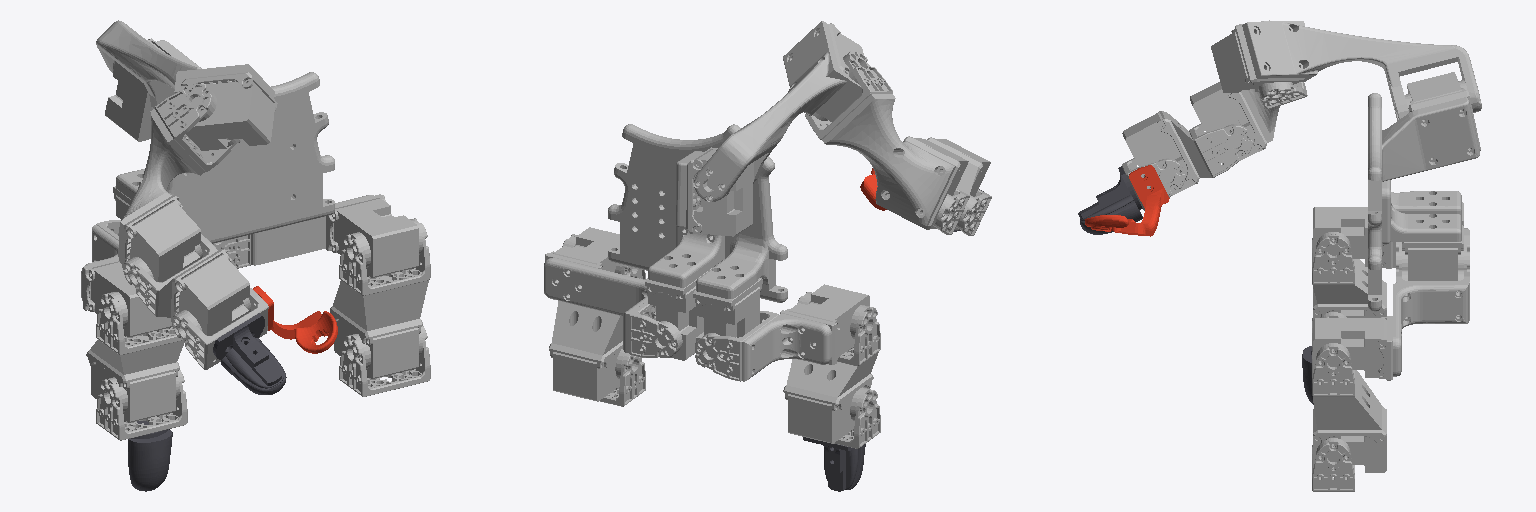
URDF robot description (ditto_leader_3f):
<?xml version='1.0' encoding='utf-8'?>
<robot name="ditto_leader_3f">
  <!-- Built by ditto_gello_development/scripts/build_ditto_leader_urdfs.py from the SolidWorks export ditto_leader_urdf_4dof_thumb (index, thumb and middle finger). Drop-in for roamlab/ditto reverse_teleop assets/urdf/ditto_leader_7dof: root hand_piece in the same frame, same joint names, zeros and directions (the export's thumb1 and thumb4 zeros corrected so each part's screw holes sit on its XC330 horn's at zero). Joint limits on index1-3 and thumb1-4: ditto 7dof_f02 follower limits. -->
  <link name="hand_piece">
    <inertial>
      <origin xyz="0.00306629158 0.05206754619 -0.02295305992" rpy="-1.570796327 0 3.141592654" />
      <mass value="0.0833211952650804" />
      <inertia ixx="3.31172694214417E-05" ixy="7.28985620728082E-07" ixz="4.10611672088654E-06" iyy="3.13694915845556E-05" iyz="-3.04082055921108E-06" izz="4.76920282565564E-05" />
    </inertial>
    <visual>
      <origin xyz="-0.01214814623 0.0636128 -0.06877882933" rpy="-1.570796327 0 3.141592654" />
      <geometry>
        <mesh filename="meshes/base_link.STL" />
      </geometry>
      <material name="body">
        <color rgba="0.75 0.75 0.75 1" />
      </material>
    </visual>
    <collision>
      <origin xyz="-0.01214814623 0.0636128 -0.06877882933" rpy="-1.570796327 0 3.141592654" />
      <geometry>
        <mesh filename="meshes/base_link.STL" />
      </geometry>
    </collision>
  </link>
  <link name="index_link_0">
    <inertial>
      <origin xyz="0.0271735387 3.03e-09 0.00350542388" rpy="0 0 0" />
      <mass value="0.0234290807402588" />
      <inertia ixx="3.11468553842293E-06" ixy="-1.63639517838512E-13" ixz="-2.1506879881659E-07" iyy="3.56962661403034E-06" iyz="-2.93292358226171E-13" izz="1.91839577955842E-06" />
    </inertial>
    <visual>
      <origin xyz="0 0 -0.0255003" rpy="0 0 0" />
      <geometry>
        <mesh filename="meshes/index_link_0.STL" />
      </geometry>
      <material name="body">
        <color rgba="0.75 0.75 0.75 1" />
      </material>
    </visual>
    <collision>
      <origin xyz="0 0 -0.0255003" rpy="0 0 0" />
      <geometry>
        <mesh filename="meshes/index_link_0.STL" />
      </geometry>
    </collision>
  </link>
  <joint name="index1" type="revolute">
    <origin xyz="-0.01214814622 0.0381125 -0.06877882934" rpy="-1.570796327 0 -3.141592653" />
    <parent link="hand_piece" />
    <child link="index_link_0" />
    <axis xyz="0 0 1" />
    <limit lower="-0.226893" upper="0.418879" effort="10" velocity="4.8" />
  </joint>
  <link name="index_link_1">
    <inertial>
      <origin xyz="0.03248672582 -0.00549943022 0.01750933357" rpy="0 0 0" />
      <mass value="0.0277581841607585" />
      <inertia ixx="4.11454234312938E-06" ixy="4.96840161489649E-08" ixz="1.58829402827679E-13" iyy="2.57034877332712E-06" iyz="-4.28535395323684E-08" izz="2.91638603075459E-06" />
    </inertial>
    <visual>
      <origin xyz="0 0 0.0173" rpy="0 0 0" />
      <geometry>
        <mesh filename="meshes/index_link_1.STL" />
      </geometry>
      <material name="body">
        <color rgba="0.75 0.75 0.75 1" />
      </material>
    </visual>
    <collision>
      <origin xyz="0 0 0.0173" rpy="0 0 0" />
      <geometry>
        <mesh filename="meshes/index_link_1.STL" />
      </geometry>
    </collision>
  </link>
  <joint name="index2" type="revolute">
    <origin xyz="0.0127 0 0.0204997" rpy="1.570796327 0 1.570796327" />
    <parent link="index_link_0" />
    <child link="index_link_1" />
    <axis xyz="0 0 1" />
    <limit lower="-0.174533" upper="1.570796" effort="10" velocity="4.8" />
  </joint>
  <link name="index_link_2">
    <inertial>
      <origin xyz="0.0100768333 0 0.0173" rpy="0 0 0" />
      <mass value="0.00252674876938613" />
      <inertia ixx="5.37570168949988E-07" ixy="2.36900307380654E-18" ixz="-2.68581527327795E-17" iyy="5.77184540925893E-07" iyz="2.72602499063971E-18" izz="2.1332062555457E-07" />
    </inertial>
    <visual>
      <origin xyz="0 0 0.0173" rpy="0 0 0" />
      <geometry>
        <mesh filename="meshes/index_link_2.STL" />
      </geometry>
      <material name="body">
        <color rgba="0.75 0.75 0.75 1" />
      </material>
    </visual>
    <collision>
      <origin xyz="0 0 0.0173" rpy="0 0 0" />
      <geometry>
        <mesh filename="meshes/index_link_2.STL" />
      </geometry>
    </collision>
  </link>
  <joint name="index3" type="revolute">
    <origin xyz="0.041 0 0" rpy="0 0 0" />
    <parent link="index_link_1" />
    <child link="index_link_2" />
    <axis xyz="0 0 1" />
    <limit lower="-0.174533" upper="1.570796" effort="10" velocity="4.8" />
  </joint>
  <link name="index_fingerpad">
    <inertial>
      <origin xyz="-0.0143776185083976 -0.00237508977995729 -0.00159388555076875" rpy="0 0 0" />
      <mass value="0.00293503370588174" />
      <inertia ixx="1.33921399649439E-07" ixy="-4.95796337669068E-08" ixz="-3.54546635157622E-08" iyy="3.38296975785304E-07" iyz="-3.08234193737214E-08" izz="3.773005890882E-07" />
    </inertial>
    <visual>
      <origin xyz="0 0 0" rpy="0 0 0" />
      <geometry>
        <mesh filename="meshes/index_fingerpad.STL" />
      </geometry>
      <material name="fingerpad">
        <color rgba="0.9 0.3 0.2 1" />
      </material>
    </visual>
    <collision>
      <origin xyz="0 0 0" rpy="0 0 0" />
      <geometry>
        <mesh filename="meshes/index_fingerpad.STL" />
      </geometry>
    </collision>
  </link>
  <joint name="index_fingerpad_joint" type="fixed">
    <origin xyz="0.0322 0.007 -0.0105" rpy="-1.570796327 0 0" />
    <parent link="index_link_2" />
    <child link="index_fingerpad" />
  </joint>
  <link name="index_fingertip">
    <inertial>
      <origin xyz="-0.0120007934801966 -1.08413846944575E-09 -0.0159446563569806" rpy="0 0 0" />
      <mass value="0.001277690145621" />
      <inertia ixx="7.45331842074059E-08" ixy="2.961341611503E-15" ixz="3.41868390401979E-09" iyy="5.23842023487626E-08" iyz="-3.61474000193815E-15" izz="7.17532328797171E-08" />
    </inertial>
    <visual>
      <origin xyz="0 0 0" rpy="0 0 0" />
      <geometry>
        <mesh filename="meshes/index_fingertip.STL" />
      </geometry>
      <material name="fingertip">
        <color rgba="0.35 0.35 0.38 1" />
      </material>
    </visual>
    <collision>
      <origin xyz="0 0 0" rpy="0 0 0" />
      <geometry>
        <mesh filename="meshes/index_fingertip.STL" />
      </geometry>
    </collision>
  </link>
  <joint name="index_fingertip_joint" type="fixed">
    <origin xyz="0.032379 0.014279 0.0173" rpy="-1.5708 0 0" />
    <parent link="index_link_2" />
    <child link="index_fingertip" />
  </joint>
  <link name="thumb_link_0">
    <inertial>
      <origin xyz="0.02760315232 0.02003878265 -0.01733677845" rpy="0 0 0" />
      <mass value="0.0360287569844993" />
      <inertia ixx="1.75304183230735E-05" ixy="-1.30640778835037E-06" ixz="-5.54910026754764E-06" iyy="1.91614838037545E-05" iyz="-1.7245418072391E-06" izz="6.16754295627566E-06" />
    </inertial>
    <visual>
      <origin xyz="0 0 -0.068129" rpy="0 0 0" />
      <geometry>
        <mesh filename="meshes/thumb_link_0.STL" />
      </geometry>
      <material name="body">
        <color rgba="0.75 0.75 0.75 1" />
      </material>
    </visual>
    <collision>
      <origin xyz="0 0 -0.068129" rpy="0 0 0" />
      <geometry>
        <mesh filename="meshes/thumb_link_0.STL" />
      </geometry>
    </collision>
  </link>
  <joint name="thumb1" type="revolute">
    <origin xyz="4.7785e-07 7.79e-08 -2.1486e-07" rpy="2.82287672 -1.365196184 -1.075225889" />
    <parent link="hand_piece" />
    <child link="thumb_link_0" />
    <axis xyz="0 0 1" />
    <limit lower="-0.436332" upper="0.523599" effort="10" velocity="4.8" />
  </joint>
  <link name="thumb_link_1">
    <inertial>
      <origin xyz="0.04156519421 0.02306483634 0.00951132778" rpy="0 0 0" />
      <mass value="0.0337789988448157" />
      <inertia ixx="4.61511922161962E-06" ixy="-1.59805605636466E-06" ixz="7.95780703305186E-07" iyy="6.53418204794704E-06" iyz="6.1748310235914E-08" izz="5.66157707028981E-06" />
    </inertial>
    <visual>
      <origin xyz="0 0 0.0230344" rpy="0 0 0" />
      <geometry>
        <mesh filename="meshes/thumb_link_1.STL" />
      </geometry>
      <material name="body">
        <color rgba="0.75 0.75 0.75 1" />
      </material>
    </visual>
    <collision>
      <origin xyz="0 0 0.0230344" rpy="0 0 0" />
      <geometry>
        <mesh filename="meshes/thumb_link_1.STL" />
      </geometry>
    </collision>
  </link>
  <joint name="thumb2" type="revolute">
    <origin xyz="0.01754872884 0.01775727876 0.00240506541" rpy="1.5708 -0.68717 2.3621" />
    <parent link="thumb_link_0" />
    <child link="thumb_link_1" />
    <axis xyz="0 0 1" />
    <limit lower="-1.570796" upper="-0.349066" effort="10" velocity="4.8" />
  </joint>
  <link name="thumb_link_2">
    <inertial>
      <origin xyz="0.02929473931 0.00579498426 0.00024681306" rpy="0 0 0" />
      <mass value="0.0235045651220368" />
      <inertia ixx="3.56323790691382E-06" ixy="-1.01749703801374E-08" ixz="2.03582390256546E-16" iyy="2.18948897754425E-06" iyz="4.28549435861432E-08" izz="2.60810652651659E-06" />
    </inertial>
    <visual>
      <origin xyz="0 0 0.0079996" rpy="0 0 0" />
      <geometry>
        <mesh filename="meshes/thumb_link_2.STL" />
      </geometry>
      <material name="body">
        <color rgba="0.75 0.75 0.75 1" />
      </material>
    </visual>
    <collision>
      <origin xyz="0 0 0.0079996" rpy="0 0 0" />
      <geometry>
        <mesh filename="meshes/thumb_link_2.STL" />
      </geometry>
    </collision>
  </link>
  <joint name="thumb3" type="revolute">
    <origin xyz="0.05212376619 0.03619052244 -3.7773e-07" rpy="1.144488731 0.1949461792 1.710500859" />
    <parent link="thumb_link_1" />
    <child link="thumb_link_2" />
    <axis xyz="0 0 1" />
    <limit lower="-1.570796" upper="0.174533" effort="10" velocity="4.8" />
  </joint>
  <link name="thumb_link_3">
    <inertial>
      <origin xyz="0.0100767406 -4.319501e-05 -7.9997e-07" rpy="0 0 0" />
      <mass value="0.00252674889438426" />
      <inertia ixx="5.37570898003087E-07" ixy="1.69807278639517E-10" ixz="3.80974624354385E-16" iyy="5.77183813886022E-07" iyz="-4.02357292819717E-17" izz="2.1332062636305E-07" />
    </inertial>
    <visual>
      <origin xyz="0 0 0.0079992" rpy="0 0 0" />
      <geometry>
        <mesh filename="meshes/thumb_link_3.STL" />
      </geometry>
      <material name="body">
        <color rgba="0.75 0.75 0.75 1" />
      </material>
    </visual>
    <collision>
      <origin xyz="0 0 0.0079992" rpy="0 0 0" />
      <geometry>
        <mesh filename="meshes/thumb_link_3.STL" />
      </geometry>
    </collision>
  </link>
  <joint name="thumb4" type="revolute">
    <origin xyz="0.035 0 4e-07" rpy="0 0 0.00428652864" />
    <parent link="thumb_link_2" />
    <child link="thumb_link_3" />
    <axis xyz="0 0 1" />
    <limit lower="-1.570796" upper="0.174533" effort="10" velocity="4.8" />
  </joint>
  <link name="thumb_fingerpad">
    <inertial>
      <origin xyz="-0.00872390099835438 0.00591950501232824 -0.00537464637345676" rpy="0 0 0" />
      <mass value="0.00273977118217093" />
      <inertia ixx="2.91978087929543E-07" ixy="9.70777337547777E-09" ixz="8.60983354636815E-09" iyy="2.36304105033026E-07" iyz="8.344046615217E-08" izz="1.70851418163156E-07" />
    </inertial>
    <visual>
      <origin xyz="0 0 0" rpy="0 0 0" />
      <geometry>
        <mesh filename="meshes/thumb_fingerpad.STL" />
      </geometry>
      <material name="fingerpad">
        <color rgba="0.9 0.3 0.2 1" />
      </material>
    </visual>
    <collision>
      <origin xyz="0 0 0" rpy="0 0 0" />
      <geometry>
        <mesh filename="meshes/thumb_fingerpad.STL" />
      </geometry>
    </collision>
  </link>
  <joint name="thumb_fingerpad_joint" type="fixed">
    <origin xyz="0.03397825482 -0.00514569714 -0.0318008" rpy="1.806668259 -0.3794981363 0.4988140793" />
    <parent link="thumb_link_3" />
    <child link="thumb_fingerpad" />
  </joint>
  <link name="thumb_fingertip">
    <inertial>
      <origin xyz="-0.0120007743591476 -2.96880624250928E-10 -0.0159446780590514" rpy="0 0 0" />
      <mass value="0.00127770829696998" />
      <inertia ixx="7.45332645553816E-08" ixy="6.5040795383595E-15" ixz="3.4187449796018E-09" iyy="5.23841803163401E-08" iyz="6.78850515875001E-15" izz="7.17532160153854E-08" />
    </inertial>
    <visual>
      <origin xyz="0 0 0" rpy="0 0 0" />
      <geometry>
        <mesh filename="meshes/thumb_fingertip.STL" />
      </geometry>
      <material name="fingertip">
        <color rgba="0.35 0.35 0.38 1" />
      </material>
    </visual>
    <collision>
      <origin xyz="0 0 0" rpy="0 0 0" />
      <geometry>
        <mesh filename="meshes/thumb_fingertip.STL" />
      </geometry>
    </collision>
  </link>
  <joint name="thumb_fingertip_joint" type="fixed">
    <origin xyz="0.03231725598 -0.01441772081 -8e-07" rpy="1.570796327 0 -0.0042865742" />
    <parent link="thumb_link_3" />
    <child link="thumb_fingertip" />
  </joint>
  <link name="middle_link_0">
    <inertial>
      <origin xyz="0.0536195114634704 -2.42606474666007E-10 0.0270490836849533" rpy="0 0 0" />
      <mass value="0.0268394050979217" />
      <inertia ixx="3.45036780154115E-06" ixy="-8.67763893580181E-13" ixz="-7.14072454844829E-07" iyy="6.44607010084784E-06" iyz="-5.58890421155576E-13" izz="4.66534332329057E-06" />
    </inertial>
    <visual>
      <origin xyz="0 0 0" rpy="0 0 0" />
      <geometry>
        <mesh filename="meshes/middle_link_0.STL" />
      </geometry>
      <material name="body">
        <color rgba="0.75 0.75 0.75 1" />
      </material>
    </visual>
    <collision>
      <origin xyz="0 0 0" rpy="0 0 0" />
      <geometry>
        <mesh filename="meshes/middle_link_0.STL" />
      </geometry>
    </collision>
  </link>
  <joint name="middle1" type="revolute">
    <origin xyz="0.01285185377 0.0636128 -0.06877882933" rpy="1.570796327 7.34641e-06 0" />
    <parent link="hand_piece" />
    <child link="middle_link_0" />
    <axis xyz="0 0 1" />
    <limit lower="-0.300000" upper="0.300000" effort="10" velocity="4.8" />
  </joint>
  <link name="middle_link_1">
    <inertial>
      <origin xyz="0.0364928103809854 -0.00525061406363375 0.000176615436499411" rpy="0 0 0" />
      <mass value="0.0329000270028115" />
      <inertia ixx="4.78314507668699E-06" ixy="1.40869805443595E-07" ixz="-3.79420138544136E-14" iyy="3.23635026567844E-06" iyz="-4.28547769247267E-08" izz="3.4883400552915E-06" />
    </inertial>
    <visual>
      <origin xyz="0 0 0" rpy="0 0 0" />
      <geometry>
        <mesh filename="meshes/middle_link_1.STL" />
      </geometry>
      <material name="body">
        <color rgba="0.75 0.75 0.75 1" />
      </material>
    </visual>
    <collision>
      <origin xyz="0 0 0" rpy="0 0 0" />
      <geometry>
        <mesh filename="meshes/middle_link_1.STL" />
      </geometry>
    </collision>
  </link>
  <joint name="middle2" type="revolute">
    <origin xyz="0.067 0 0.0460000000000001" rpy="1.5707963267949 0 -1.5707963267949" />
    <parent link="middle_link_0" />
    <child link="middle_link_1" />
    <axis xyz="0 0 1" />
    <limit lower="-0.174533" upper="1.570796" effort="10" velocity="4.8" />
  </joint>
  <link name="middle_link_2">
    <inertial>
      <origin xyz="0.0100768333002347 1.60817214172944E-13 -1.20249643575931E-12" rpy="0 0 0" />
      <mass value="0.00252674876938612" />
      <inertia ixx="5.37570168949986E-07" ixy="2.36908333352933E-18" ixz="-2.68578770134007E-17" iyy="5.77184540925891E-07" iyz="2.72607750565081E-18" izz="2.13320625554569E-07" />
    </inertial>
    <visual>
      <origin xyz="0 0 0" rpy="0 0 0" />
      <geometry>
        <mesh filename="meshes/middle_link_2.STL" />
      </geometry>
      <material name="body">
        <color rgba="0.75 0.75 0.75 1" />
      </material>
    </visual>
    <collision>
      <origin xyz="0 0 0" rpy="0 0 0" />
      <geometry>
        <mesh filename="meshes/middle_link_2.STL" />
      </geometry>
    </collision>
  </link>
  <joint name="middle3" type="revolute">
    <origin xyz="0.0485 0 0" rpy="0 0 0" />
    <parent link="middle_link_1" />
    <child link="middle_link_2" />
    <axis xyz="0 0 1" />
    <limit lower="-0.174533" upper="1.570796" effort="10" velocity="4.8" />
  </joint>
  <link name="middle_fingerpad">
    <inertial>
      <origin xyz="-0.0109953455583792 0.0202016893674813 -0.00127026828443084" rpy="0 0 0" />
      <mass value="0.00332341020047753" />
      <inertia ixx="1.37247704515347E-06" ixy="4.51128273172686E-07" ixz="-4.12925368296621E-08" iyy="3.01929067803901E-07" iyz="1.28907614232025E-07" izz="1.5753161268998E-06" />
    </inertial>
    <visual>
      <origin xyz="0 0 0" rpy="0 0 0" />
      <geometry>
        <mesh filename="meshes/middle_fingerpad.STL" />
      </geometry>
      <material name="fingerpad">
        <color rgba="0.9 0.3 0.2 1" />
      </material>
    </visual>
    <collision>
      <origin xyz="0 0 0" rpy="0 0 0" />
      <geometry>
        <mesh filename="meshes/middle_fingerpad.STL" />
      </geometry>
    </collision>
  </link>
  <joint name="middle_fingerpad_joint" type="fixed">
    <origin xyz="0.0302000000000001 0.00700000000000259 0.0669999999999999" rpy="-1.5707963267949 0 0" />
    <parent link="middle_link_2" />
    <child link="middle_fingerpad" />
  </joint>
  <link name="middle_base">
    <inertial>
      <origin xyz="0.000229489130339607 0.0154082631070049 0.0032582581945772" rpy="0 0 0" />
      <mass value="0.0234505585576978" />
      <inertia ixx="3.54205060961884E-06" ixy="-3.56322167349716E-08" ixz="-5.61352961699267E-08" iyy="2.44000044845887E-06" iyz="-2.47032651671523E-07" izz="2.64951963892004E-06" />
    </inertial>
    <visual>
      <origin xyz="0 0 0" rpy="0 0 0" />
      <geometry>
        <mesh filename="meshes/middle_base.STL" />
      </geometry>
      <material name="body">
        <color rgba="0.75 0.75 0.75 1" />
      </material>
    </visual>
    <collision>
      <origin xyz="0 0 0" rpy="0 0 0" />
      <geometry>
        <mesh filename="meshes/middle_base.STL" />
      </geometry>
    </collision>
  </link>
  <joint name="middle_base_joint" type="fixed">
    <origin xyz="0.01285185377 0.0636128 -0.06877882933" rpy="1.570796327 7.34641e-06 0" />
    <parent link="hand_piece" />
    <child link="middle_base" />
  </joint>
  <link name="tcp" />
  <joint name="tcp_joint" type="fixed">
    <origin xyz="-0.04214814623 0.0685128 0.00622117067" rpy="1.570796327 0 0" />
    <parent link="hand_piece" />
    <child link="tcp" />
  </joint>
</robot>

--- Facts derived from the render (not from the file) ---
Views: 3 orthographic renders of the robot side by side, from view 1: azimuth 30°, elevation 25°; view 2: azimuth 150°, elevation 25°; view 3: azimuth 270°, elevation 25°.
Robot: ditto_leader_3f — 18 links, 17 joints (10 revolute, 7 fixed); root link hand_piece; default pose: joints at zero except 1 at the middle of their limits (thumb2 = -0.9599).
Visible links, largest first — view 1: hand_piece, thumb_link_1, thumb_link_0, middle_link_1, middle_link_0, index_link_1, thumb_link_2, index_link_0, thumb_fingertip, middle_link_2, index_link_2, index_fingertip (+2 smaller); view 2: hand_piece, thumb_link_1, thumb_link_0, index_link_0, middle_link_0, index_link_1, middle_link_1, middle_base, thumb_link_2, index_fingertip, index_link_2, middle_link_2 (+1 smaller); view 3: hand_piece, thumb_link_0, middle_link_0, middle_link_1, thumb_link_2, middle_base, thumb_link_1, index_link_1, index_link_0, thumb_fingerpad, middle_link_2, thumb_fingertip (+1 smaller).
Boxes of the visible links, x1,y1,x2,y2 form: hand_piece: (105,38,334,243); thumb_link_1: (118,84,241,281); thumb_link_0: (96,20,277,150); middle_link_1: (330,218,430,378); middle_link_0: (213,194,422,277); index_link_1: (86,293,184,422); thumb_link_2: (123,234,251,335); index_link_0: (81,220,171,336); thumb_fingertip: (213,313,286,394); middle_link_2: (339,326,430,396); index_link_2: (96,370,187,440); index_fingertip: (128,421,172,491); hand_piece: (608,124,787,365); thumb_link_1: (805,51,968,229); thumb_link_0: (694,21,863,201); index_link_0: (695,284,869,381); middle_link_0: (544,227,678,357); index_link_1: (783,292,880,443); middle_link_1: (549,234,645,401); middle_base: (645,226,724,360); thumb_link_2: (876,137,990,234); index_fingertip: (803,437,865,491); index_link_2: (834,389,880,448); middle_link_2: (600,353,645,406); hand_piece: (1368,72,1480,311); thumb_link_0: (1211,21,1481,120); middle_link_0: (1313,270,1469,380); middle_link_1: (1312,346,1386,472); thumb_link_2: (1122,111,1252,195); middle_base: (1382,180,1463,291); thumb_link_1: (1190,20,1307,164); index_link_1: (1312,234,1386,319); index_link_0: (1313,207,1469,269); thumb_fingerpad: (1085,165,1169,236); middle_link_2: (1312,441,1354,491); thumb_fingertip: (1078,166,1142,234).
Size in the robot's own frame: 0.1755 by 0.187 by 0.2113 metres.
Meshes: 17 distinct files referenced, 15 mesh visuals loaded (15 binary STL); not drawn: 2 (reference not matched to a file when rendering).
